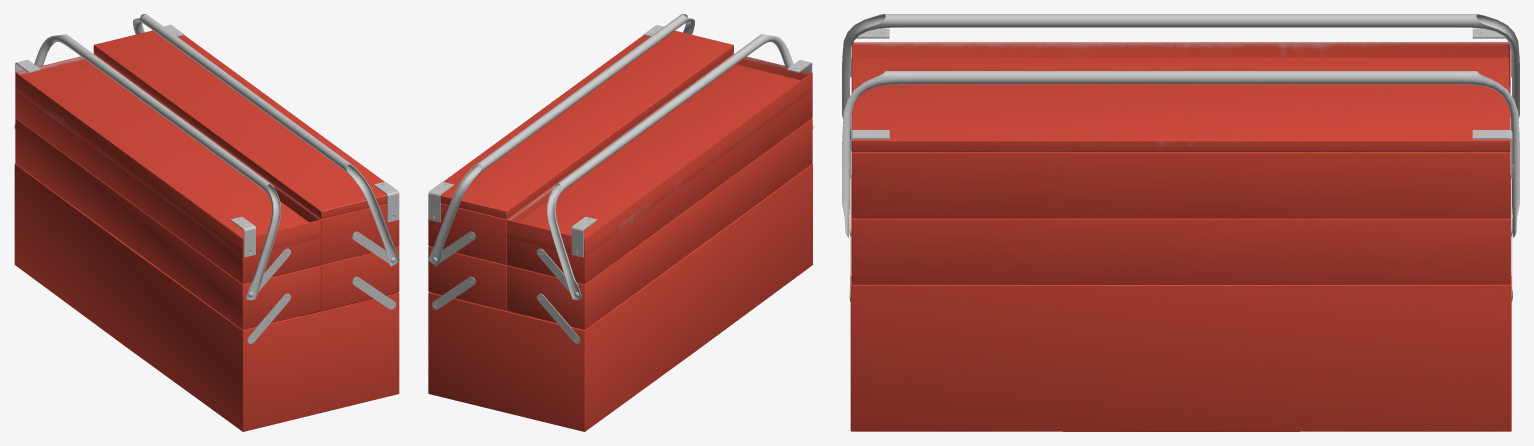
File: Caja Health.fbx
3 views of the same model, side by side, from view 1: azimuth 30°, elevation 25°; view 2: azimuth 150°, elevation 25°; view 3: azimuth 270°, elevation 25° (orthographic). The views are drawn at different scales.
Visible parts, largest first — view 1: BASE, LID_R, LID_L, LEVEL1_L, LEVEL2_L, Cylinder.001, Cylinder.002, LEVEL2_R, LEVEL1_R, LID_HINGE_L, LID_HINGE_R, LEVEL1_HINGE_L (+2 smaller); view 2: BASE, LID_R, LID_L, LEVEL1_L, LEVEL2_L, Cylinder.001, Cylinder.002, LEVEL2_R, LEVEL1_R, LID_HINGE_L, LID_HINGE_R, LEVEL1_HINGE_L (+3 smaller); view 3: BASE, LEVEL1_R, LEVEL2_R, LID_R, Cylinder.002, LID_L, LEVEL2_L, Cylinder.001, LID_HINGE_R, LID_HINGE_L.
Part boxes in pixels (box(x1,y1,x2,y2)): BASE: box(14, 163, 399, 431); LID_R: box(93, 30, 386, 218); LID_L: box(15, 64, 320, 256); LEVEL1_L: box(15, 118, 320, 329); LEVEL2_L: box(15, 53, 320, 283); Cylinder.001: box(14, 34, 280, 300); Cylinder.002: box(133, 14, 399, 266); LEVEL2_R: box(94, 53, 399, 264); LEVEL1_R: box(320, 246, 399, 310); LID_HINGE_L: box(15, 59, 255, 257); LID_HINGE_R: box(164, 25, 399, 222); LEVEL1_HINGE_L: box(247, 293, 290, 343); BASE: box(428, 164, 812, 431); LID_R: box(440, 30, 733, 219); LID_L: box(507, 64, 812, 256); LEVEL1_L: box(507, 118, 812, 329); LEVEL2_L: box(507, 53, 812, 284); Cylinder.001: box(547, 34, 813, 299); Cylinder.002: box(428, 14, 694, 266); LEVEL2_R: box(428, 53, 733, 264); LEVEL1_R: box(428, 246, 506, 310); LID_HINGE_L: box(571, 60, 812, 257); LID_HINGE_R: box(428, 25, 663, 222); LEVEL1_HINGE_L: box(536, 293, 580, 343); BASE: box(850, 175, 1511, 431); LEVEL1_R: box(852, 218, 1510, 284); LEVEL2_R: box(852, 152, 1510, 218); LID_R: box(851, 85, 1510, 151); Cylinder.002: box(842, 71, 1519, 237); LID_L: box(851, 57, 1508, 86); LEVEL2_L: box(852, 42, 1510, 85); Cylinder.001: box(842, 14, 1519, 119); LID_HINGE_R: box(849, 130, 1513, 178); LID_HINGE_L: box(850, 28, 1511, 77).
Bounding box in the file's own units: 0.2018 × 0.2811 × 0.5183.
